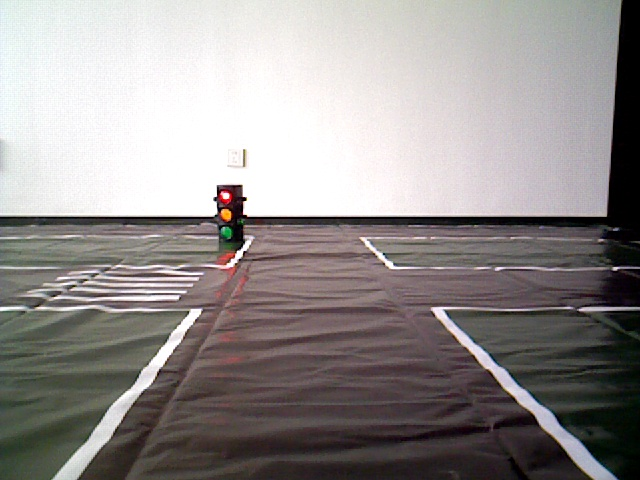red: (216, 183, 242, 246)
